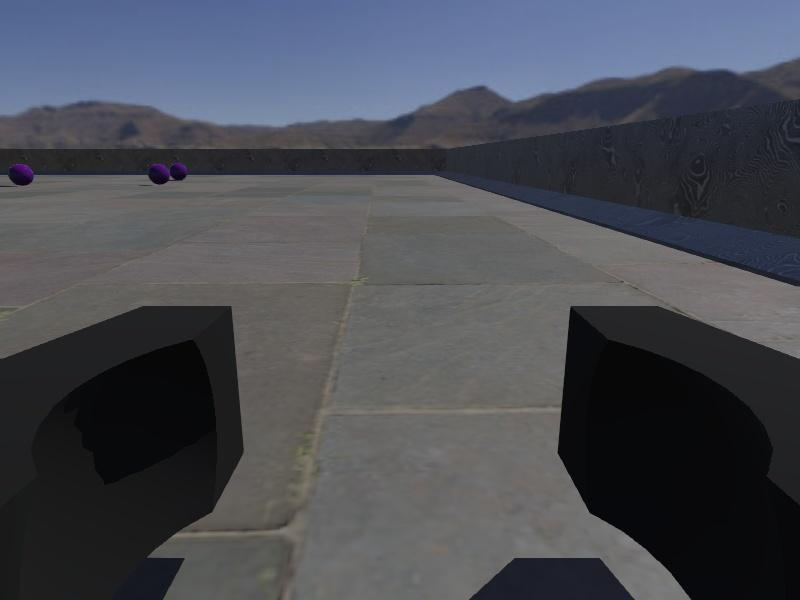violet ball: (6, 163, 35, 185), (147, 163, 170, 185), (169, 162, 188, 181)
